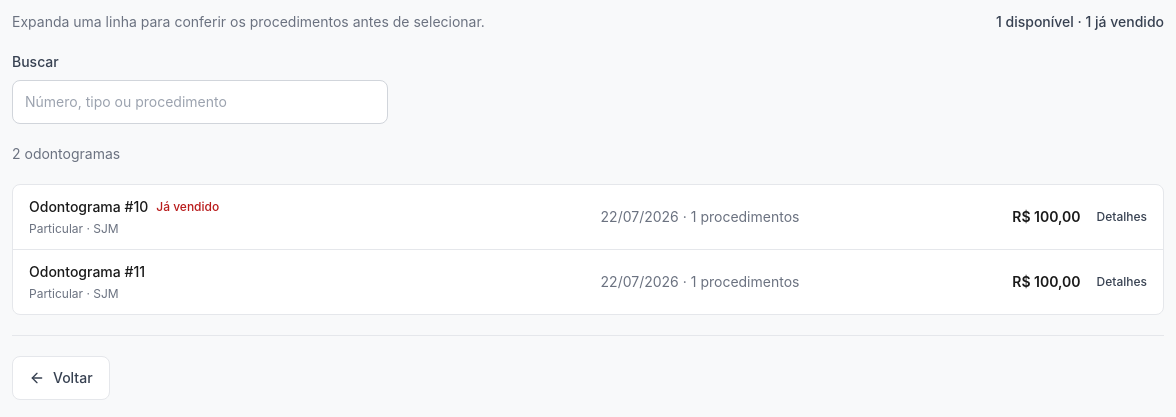
Test: OdontogramaSelector › mantém vendidos visíveis e filtra a lista somente pela busca
Expected: the button "Odontograma #10" is shown, left=13, top=185, right=1163, bottom=249
Expected: the button "Odontograma #11" is shown, left=13, top=250, right=1163, bottom=314
In the search field labelled "Buscar": x=200, y=102 left=12, top=80, right=388, bottom=124, type "10"
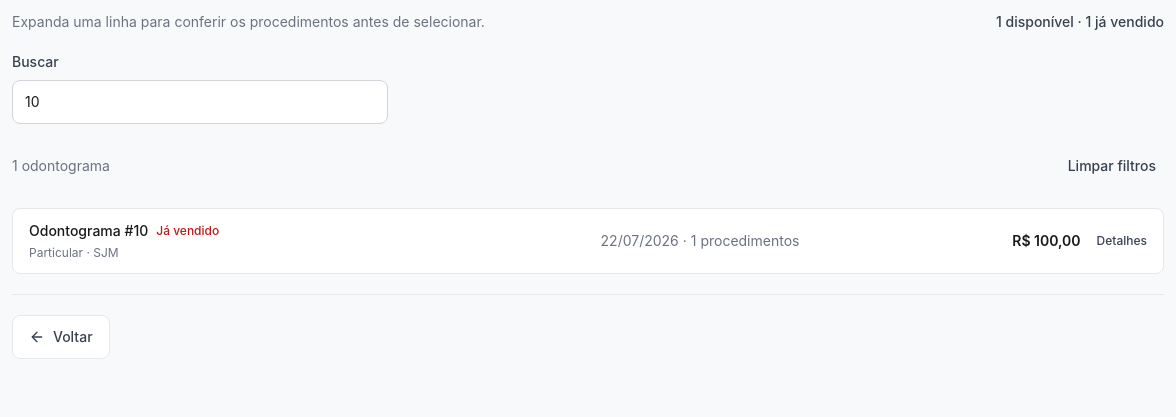
Expected: the button "Odontograma #10" is shown, left=13, top=209, right=1163, bottom=273
Expected: the button "Odontograma #11" is gone
Click the button "Limpar filtros": x=1112, y=166 left=1060, top=144, right=1164, bottom=188
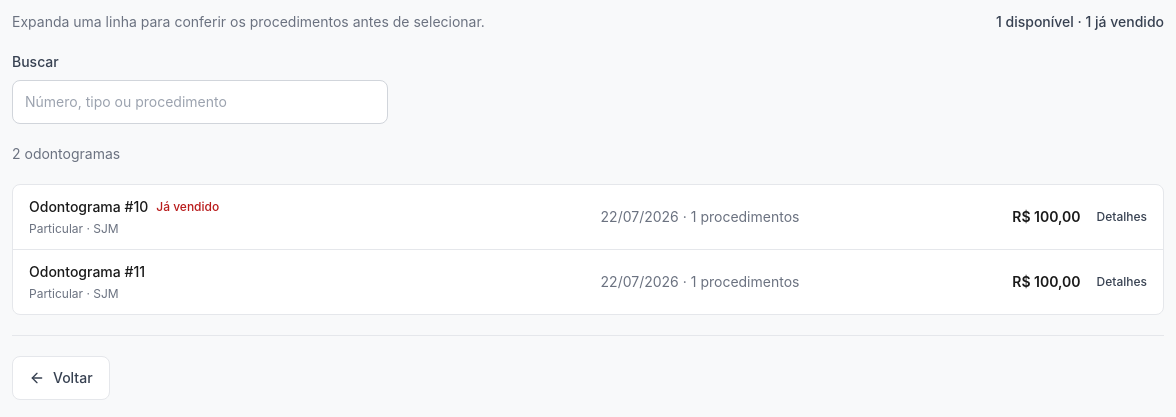
Expected: the button "Odontograma #10" is shown, left=13, top=185, right=1163, bottom=249
Expected: the button "Odontograma #11" is shown, left=13, top=250, right=1163, bottom=314
